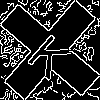K: (25, 25, 80, 82)
